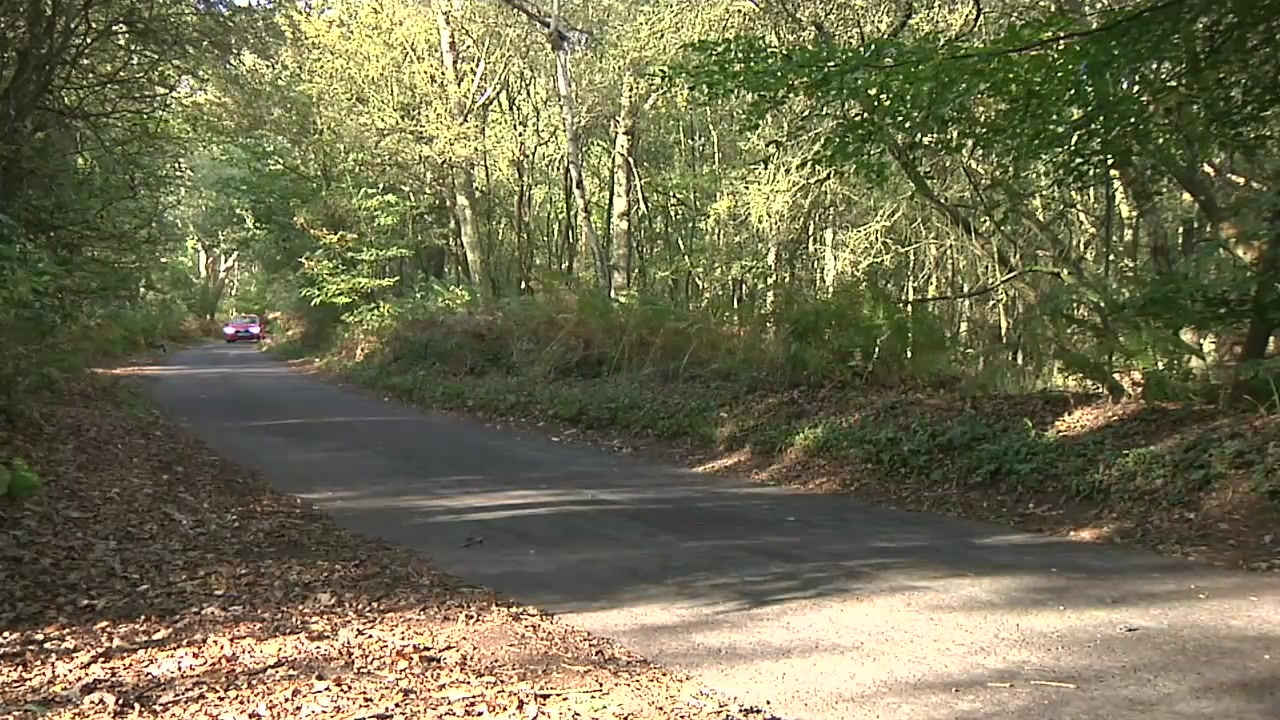car: (222, 313, 266, 345)
